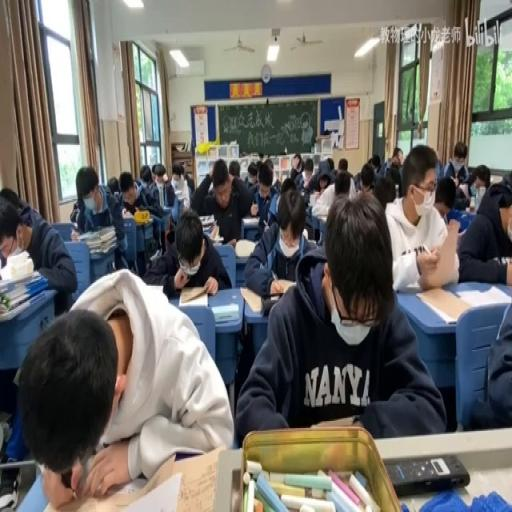calculator: (239, 282, 293, 312), (178, 286, 209, 307), (314, 412, 357, 426), (212, 302, 238, 322), (234, 238, 256, 258), (196, 213, 214, 225), (134, 215, 153, 226), (209, 222, 219, 242), (475, 185, 485, 205), (242, 216, 258, 225), (148, 247, 160, 259), (304, 204, 314, 218), (122, 208, 134, 219), (315, 212, 328, 222), (304, 236, 317, 245), (310, 189, 318, 202), (301, 226, 307, 239), (465, 205, 475, 212), (300, 189, 307, 198)
paper: (234, 189, 438, 442), (24, 273, 229, 504), (384, 145, 454, 293), (0, 194, 77, 317), (146, 208, 230, 297), (467, 276, 512, 431), (455, 174, 512, 283), (76, 164, 130, 270), (128, 168, 166, 253), (248, 160, 278, 234), (306, 156, 338, 195), (444, 141, 470, 183), (169, 162, 190, 213), (433, 176, 456, 218), (373, 174, 395, 209), (382, 145, 404, 179), (489, 170, 512, 202), (358, 161, 376, 192), (333, 168, 352, 196), (287, 153, 303, 185), (454, 181, 472, 209), (470, 164, 490, 189), (0, 186, 21, 208), (139, 164, 153, 186), (106, 176, 120, 196), (121, 185, 134, 205), (227, 159, 240, 178), (280, 178, 296, 193), (247, 166, 258, 185), (69, 200, 78, 222), (434, 159, 443, 179), (370, 154, 380, 170), (303, 158, 312, 175), (338, 156, 347, 170), (132, 176, 141, 190), (326, 156, 334, 170), (152, 170, 159, 184), (256, 158, 262, 173), (258, 150, 264, 160)
person: (386, 452, 470, 494), (0, 466, 19, 510)
